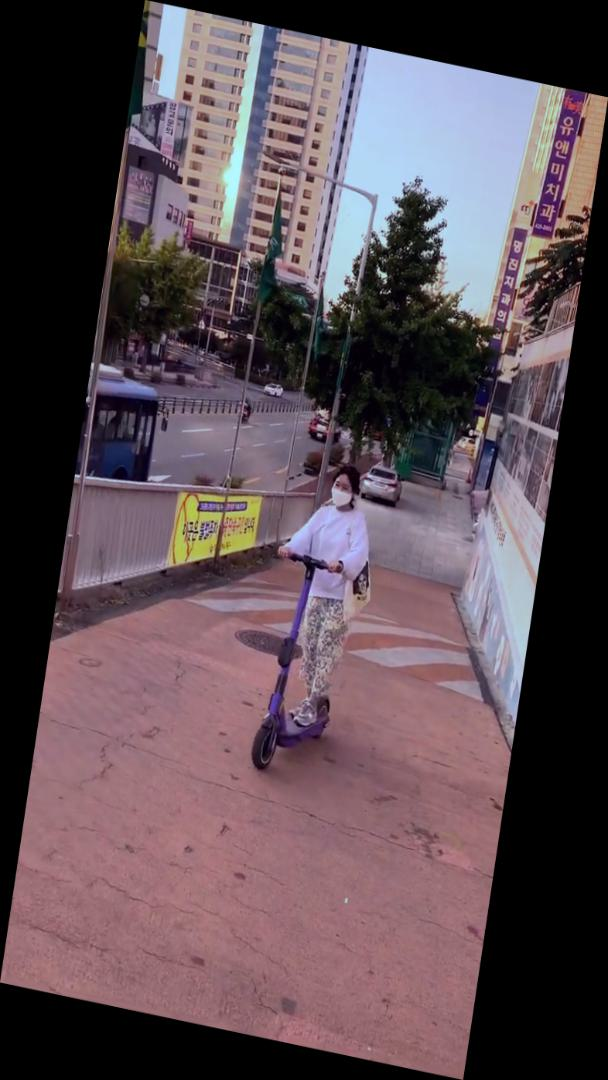nonhelmet: (235, 451, 387, 790)
